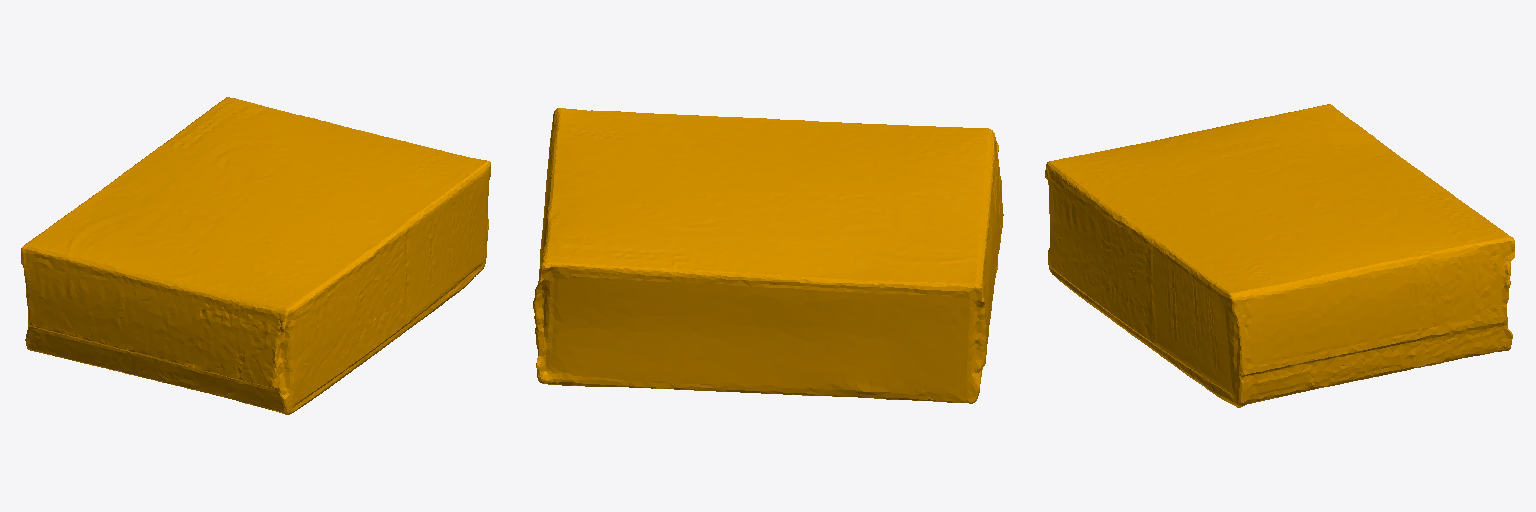
The robot description file, URDF, robot "008_pudding_box":
<?xml version="1.0" ?>
<robot name="008_pudding_box">
  <link name="base_link">
    <inertial>
      <mass value="0.03521197623725612"/>
      <origin rpy="-2.79684 -1.54161 -2.99059" xyz="0.00136 0.01899 0.01847"/>
      <inertia ixx="5.771639652110342e-05" ixy="4.761972489121296e-21" ixz="-7.817169459763575e-22" iyy="3.903126945346268e-05" iyz="-1.1168536124264665e-21" izz="2.6238339725231364e-05"/>
    </inertial>
    <collision name="008_pudding_box__collision">
      <origin rpy="0 0 0" xyz="0 0 0"/>
      <geometry>
        <mesh filename="./008_pudding_box_250_collision.stl" scale="1.0 1.0 1.0"/>
      </geometry>
    </collision>
    <visual name="008_pudding_box__visual">
      <origin rpy="0 0 0" xyz="0 0 0"/>
      <geometry>
        <mesh filename="./textured.obj" scale="1.0 1.0 1.0"/>
      </geometry>
    </visual>
  </link>
</robot>

--- Facts derived from the render (not from the file) ---
The picture shows the robot from 3 angles, left to right: view 1: azimuth 30°, elevation 25°; view 2: azimuth 150°, elevation 25°; view 3: azimuth 270°, elevation 25°; orthographic projection.
Robot: 008_pudding_box — 1 links, 0 joints (none); root link base_link; default pose: all joints at 0.
Links seen in each view (by area): view 1: base_link; view 2: base_link; view 3: base_link.
Link boxes in pixels (left/top/right/bottom): base_link: left=21, top=97, right=490, bottom=414; base_link: left=533, top=108, right=1003, bottom=403; base_link: left=1045, top=104, right=1514, bottom=407.
Bounding box of the posed robot: 0.1379 × 0.1288 × 0.0389 m (x, y, z).
Meshes: 1 distinct files referenced, 1 mesh visuals loaded (1 OBJ).